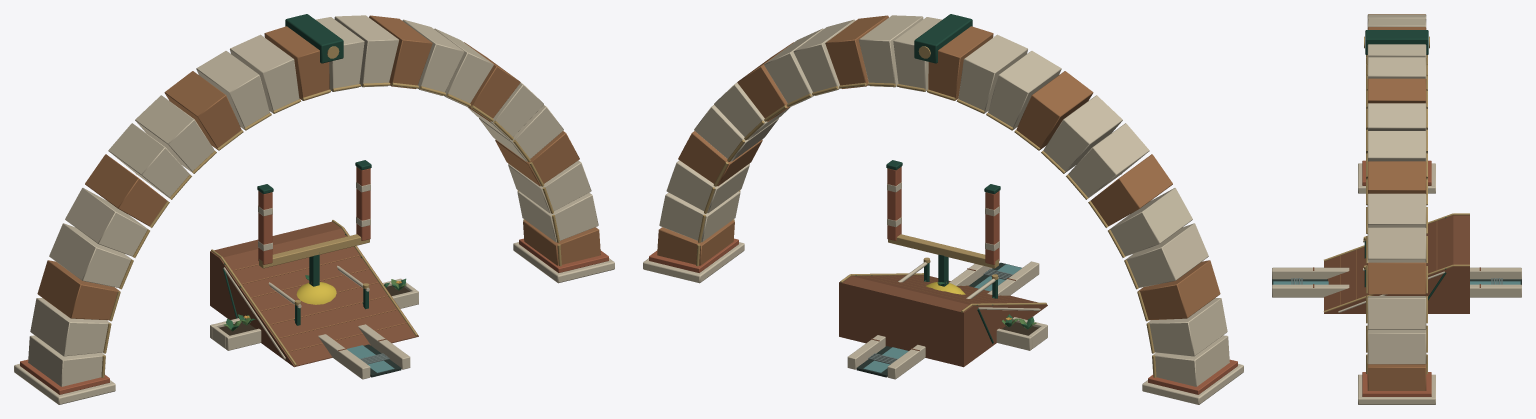
The model's file is scenic-kit.glb.
3 renders of one model, left to right at view 1: azimuth 30°, elevation 25°; view 2: azimuth 150°, elevation 25°; view 3: azimuth 270°, elevation 25°, orthographic. The views are drawn at different scales.
Parts seen in each view (by area): view 1: ridge-arch, ramp-large, goal-post, channel, border, lemon, bridge; view 2: ridge-arch, ramp-large, channel, goal-post, border, bridge; view 3: ridge-arch, ramp-large, channel.
Boxes of the visible parts, <box> form: ridge-arch: <box>14,14,614,404</box>; ramp-large: <box>210,220,418,367</box>; goal-post: <box>257,160,371,286</box>; channel: <box>318,324,410,379</box>; border: <box>210,278,418,350</box>; lemon: <box>296,275,336,304</box>; bridge: <box>268,265,369,325</box>; ridge-arch: <box>643,14,1243,404</box>; ramp-large: <box>839,273,1047,367</box>; channel: <box>847,261,1039,379</box>; goal-post: <box>886,160,1000,286</box>; border: <box>996,314,1047,350</box>; bridge: <box>898,257,998,298</box>; ridge-arch: <box>1358,14,1435,404</box>; ramp-large: <box>1323,213,1469,313</box>; channel: <box>1272,267,1521,297</box>.
Bounding box in the file's own units: 13.38 × 6.7 × 6.
